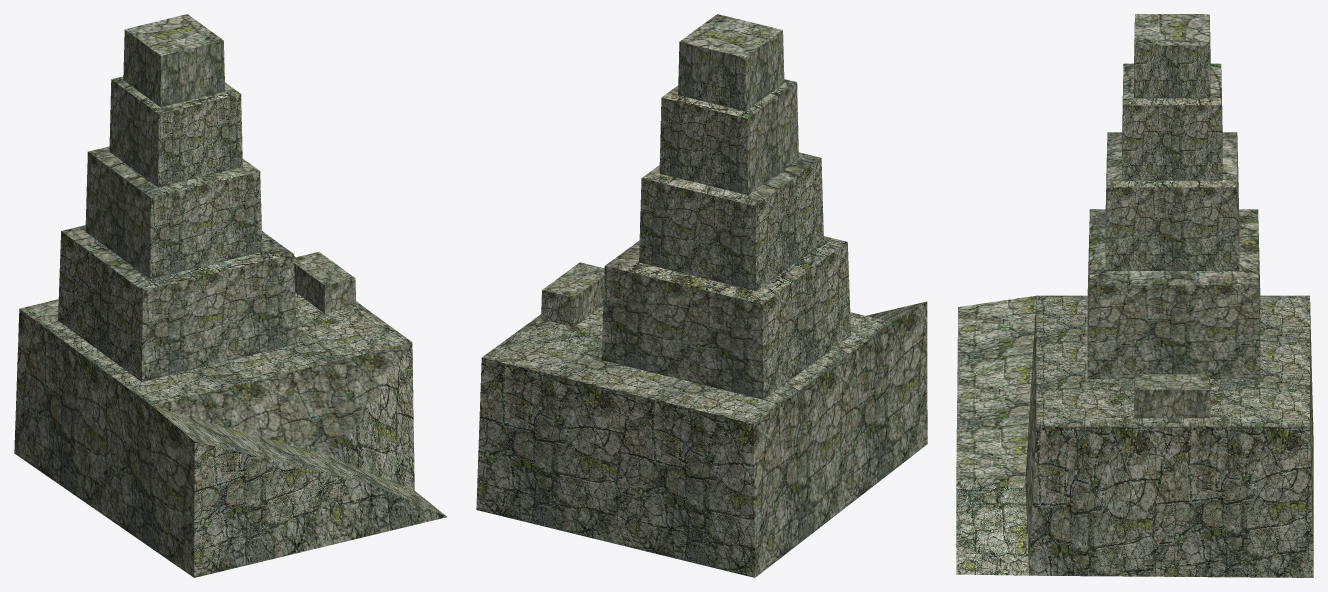
File: thm_nboo_gungan_relic_s01_l2.fbx
The picture shows the model from 3 angles, left to right: view 1: azimuth 30°, elevation 25°; view 2: azimuth 150°, elevation 25°; view 3: azimuth 270°, elevation 25°; orthographic projection. The views are drawn at different scales.
Parts seen in each view (by area): view 1: mesh_node; view 2: mesh_node; view 3: mesh_node.
Boxes of the visible parts, x1,y1,x2,y2 form: mesh_node: [14, 14, 446, 577]; mesh_node: [476, 14, 927, 577]; mesh_node: [956, 14, 1313, 577].
Size of the model in its own units: 13.77 by 22.02 by 15.51.
